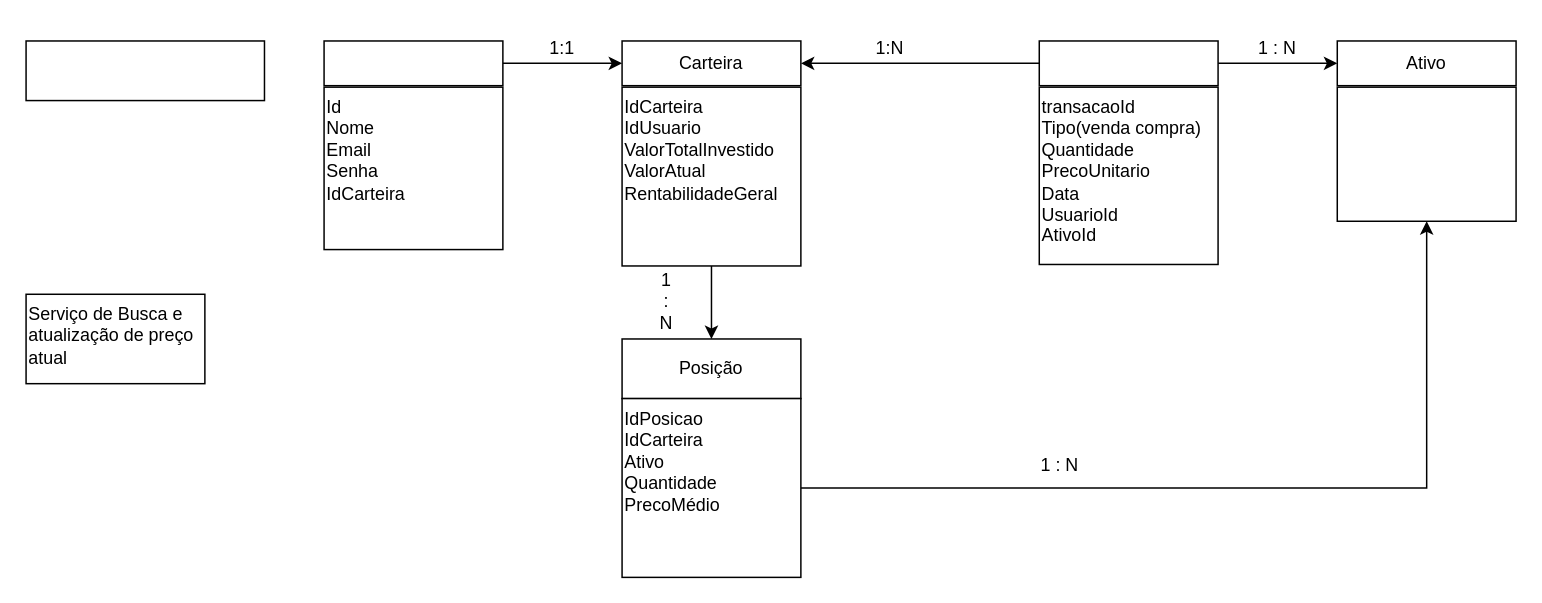
Image size: 1542x603. Some labels were removed from this diagram. The centre of each missing label's shape, as x and y in pixels:
"AtivoId Ticker Nome PrecoAtual Tipo" belongs at point (1426, 153).
"HistóricoRentabilidade" belongs at point (144, 70).
"Transação" belongs at point (1128, 62).
"Usuario" belongs at point (413, 62).
